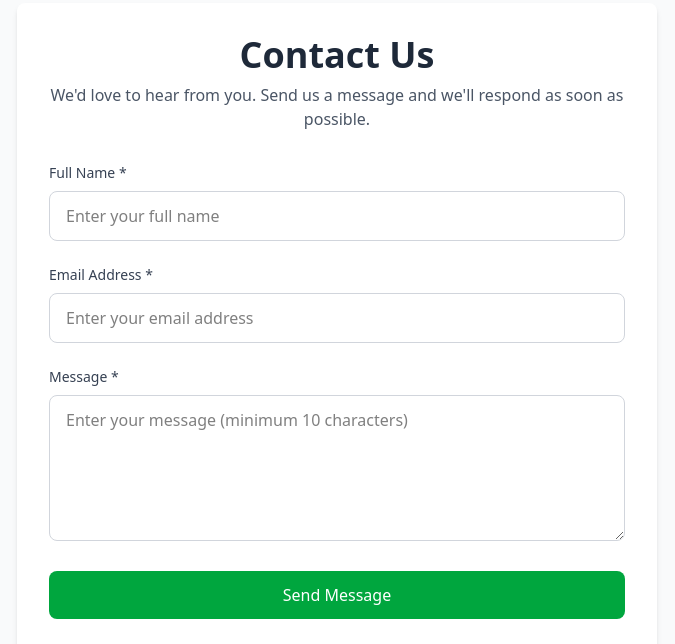
Test case: Contact Component › should show validation errors for empty form submission
The width and height of the screenshot is (675, 644).
Click the button "Send Message": coordinates (337, 595) 49,571 -> 625,619
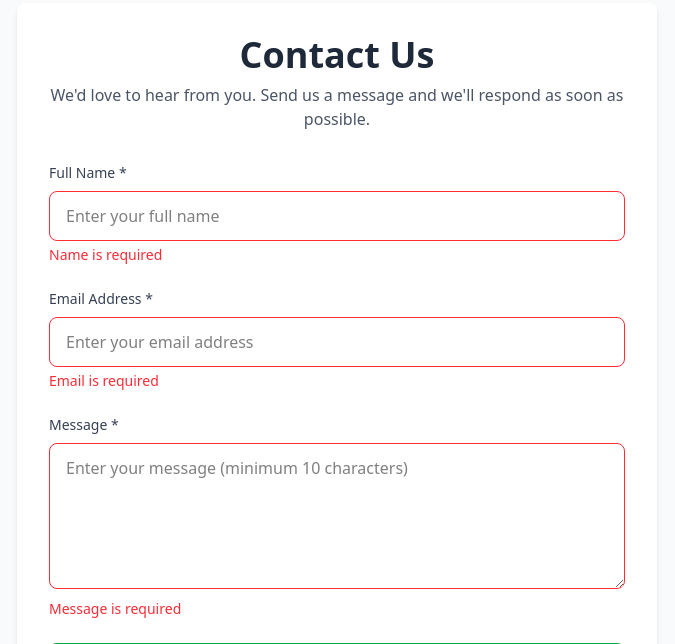
Now the text "Name is required" is shown, box 49,245 -> 162,264
Now the text "Email is required" is shown, box 49,371 -> 159,390
Now the text "Message is required" is shown, box 49,599 -> 181,618
